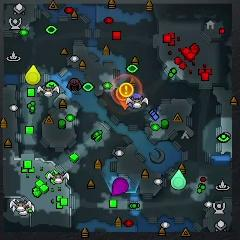Other: (119, 82, 134, 96), (116, 87, 129, 101)
p1: (130, 92, 144, 107)
p2: (172, 169, 186, 189)
p3: (111, 177, 129, 196)
p4: (25, 65, 40, 84)
p5: (116, 89, 131, 110)
